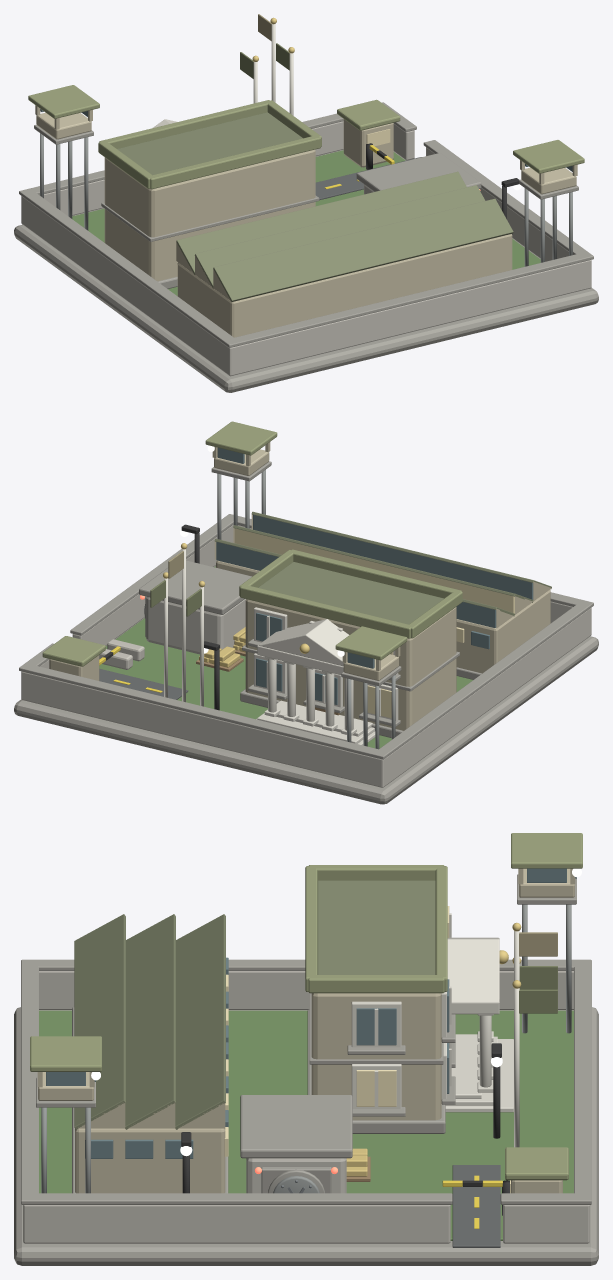
File: treasury_9.glb
3 views of the same model, one above another, from view 1: azimuth 30°, elevation 25°; view 2: azimuth 150°, elevation 25°; view 3: azimuth 270°, elevation 25° (orthographic). The views are drawn at different scales.
Parts seen in each view (by area): view 1: Cube.036, Cube.014, Cube.031, Cube, Cube.102, Cube.104, Cube.033, Cube.035, Cube.071, Cube.103, Cube.105, Cube.001 (+18 smaller); view 2: Cube.100, Cube, Cube.036, Cube.104, Cube.071, Cube.001, Cube.030, Cube.014, Cube.101, Cube.094, Cube.032, Cube.105 (+28 smaller); view 3: Cube.001, Cube, Cube.108, Cube.071, Cube.036, Cube.033, Cube.035, Cube.031, Cube.014, Cube.095, Cube.104, Cube.109 (+41 smaller).
Part boxes in pixels (bbox=[...]): Cube.036: bbox=[104, 149, 315, 281]; Cube.014: bbox=[177, 234, 512, 337]; Cube.031: bbox=[213, 198, 513, 301]; Cube: bbox=[14, 149, 598, 392]; Cube.102: bbox=[225, 260, 591, 376]; Cube.104: bbox=[24, 198, 226, 373]; Cube.033: bbox=[194, 185, 485, 288]; Cube.035: bbox=[176, 171, 466, 274]; Cube.071: bbox=[117, 112, 302, 174]; Cube.103: bbox=[223, 251, 593, 347]; Cube.105: bbox=[21, 190, 236, 345]; Cube.001: bbox=[72, 150, 540, 295]; Cube.100: bbox=[21, 671, 387, 787]; Cube: bbox=[14, 565, 598, 804]; Cube.036: bbox=[245, 599, 456, 730]; Cube.104: bbox=[386, 610, 588, 785]; Cube.071: bbox=[258, 562, 443, 624]; Cube.001: bbox=[99, 566, 472, 748]; Cube.030: bbox=[253, 515, 533, 599]; Cube.014: bbox=[216, 560, 550, 673]; Cube.101: bbox=[19, 663, 389, 759]; Cube.094: bbox=[146, 597, 245, 654]; Cube.032: bbox=[234, 528, 514, 613]; Cube.105: bbox=[376, 604, 591, 757]; Cube.001: bbox=[39, 1010, 573, 1240]; Cube: bbox=[14, 1007, 598, 1265]; Cube.108: bbox=[32, 1205, 450, 1243]; Cube.071: bbox=[317, 880, 435, 974]; Cube.036: bbox=[311, 993, 441, 1120]; Cube.033: bbox=[125, 914, 175, 1129]; Cube.035: bbox=[175, 914, 225, 1129]; Cube.031: bbox=[74, 914, 125, 1129]; Cube.014: bbox=[75, 1128, 225, 1193]; Cube.095: bbox=[240, 1095, 352, 1158]; Cube.104: bbox=[39, 971, 573, 1009]; Cube.109: bbox=[29, 1193, 452, 1204].
Size of the model in its own units: 2.92 by 1.39 by 2.92.
